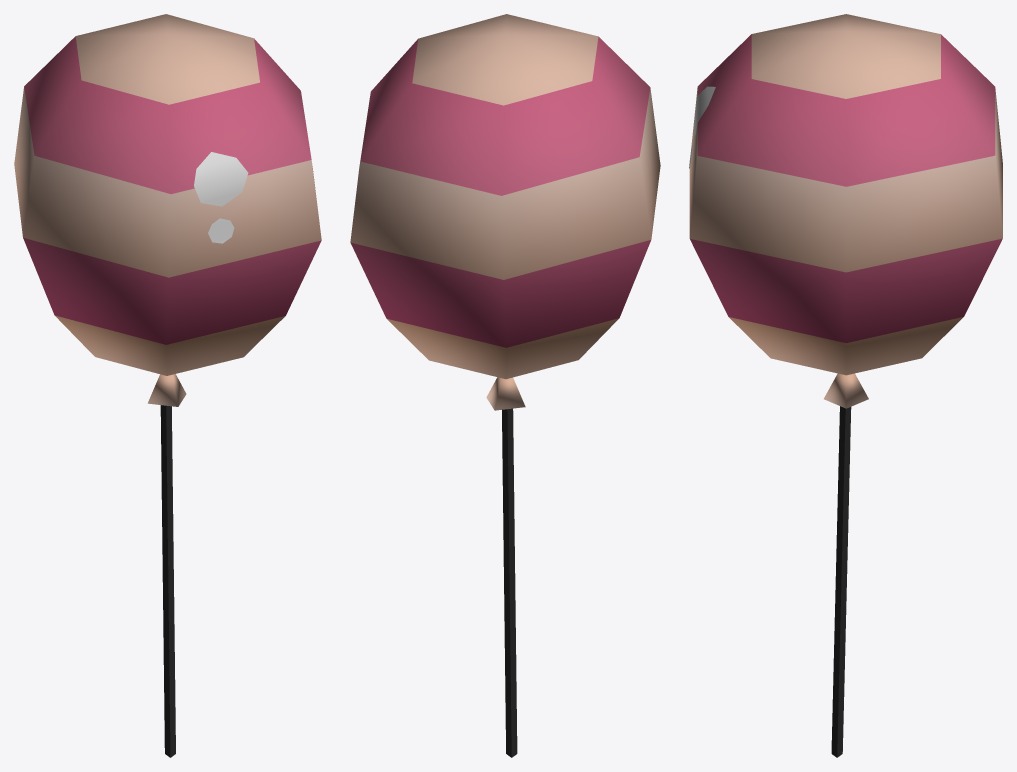
File: stripedBaloonA_0.glb
3 renders of one model, left to right at view 1: azimuth 30°, elevation 25°; view 2: azimuth 150°, elevation 25°; view 3: azimuth 270°, elevation 25°, orthographic.
Parts seen in each view (by area): view 1: stripedBaloonA; view 2: stripedBaloonA; view 3: stripedBaloonA.
Boxes of the visible parts, x1,y1,x2,y2 form: stripedBaloonA: [14, 14, 321, 757]; stripedBaloonA: [350, 14, 660, 757]; stripedBaloonA: [689, 14, 1002, 757].
Size of the model in its own units: 0.5473 by 1.29 by 0.5081.
